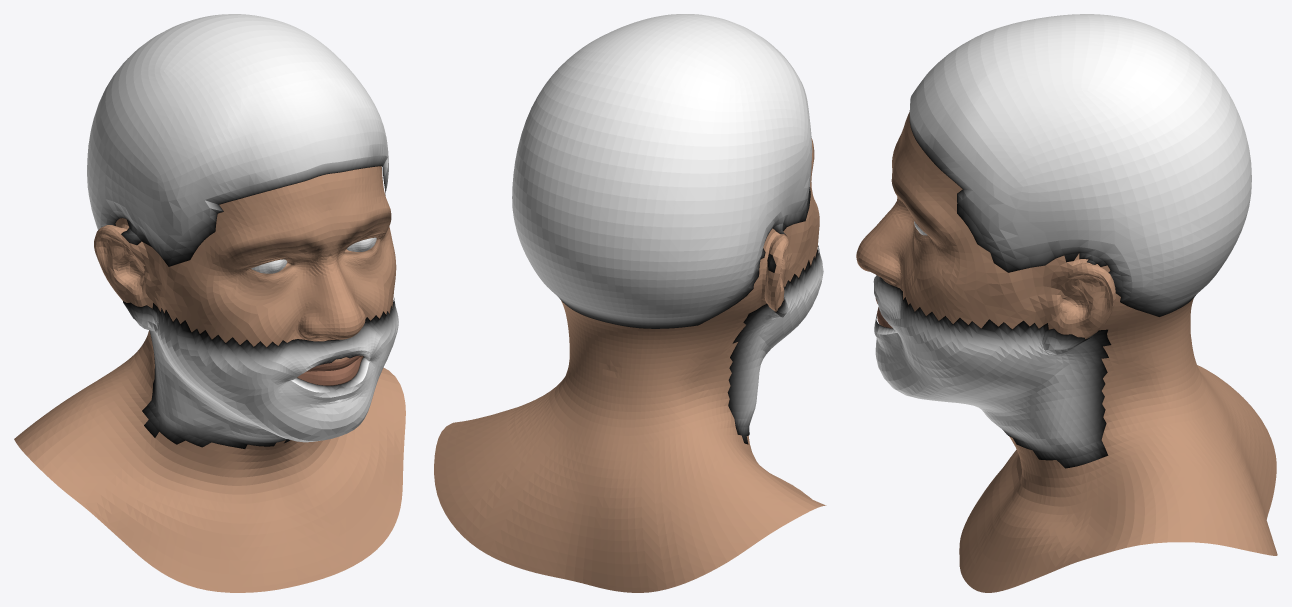
The model's file is rohit.glb.
The picture shows the model from 3 angles, left to right: view 1: azimuth 30°, elevation 25°; view 2: azimuth 150°, elevation 25°; view 3: azimuth 270°, elevation 25°; orthographic projection. The views are drawn at different scales.
Parts seen in each view (by area): view 1: gnm_head; view 2: gnm_head; view 3: gnm_head.
Boxes of the visible parts, box(x1,y1,x2,y2) form: gnm_head: box(14, 14, 405, 592); gnm_head: box(434, 14, 826, 592); gnm_head: box(856, 14, 1277, 592).
Bounding box in the file's own units: 0.2486 × 0.3347 × 0.2419.
